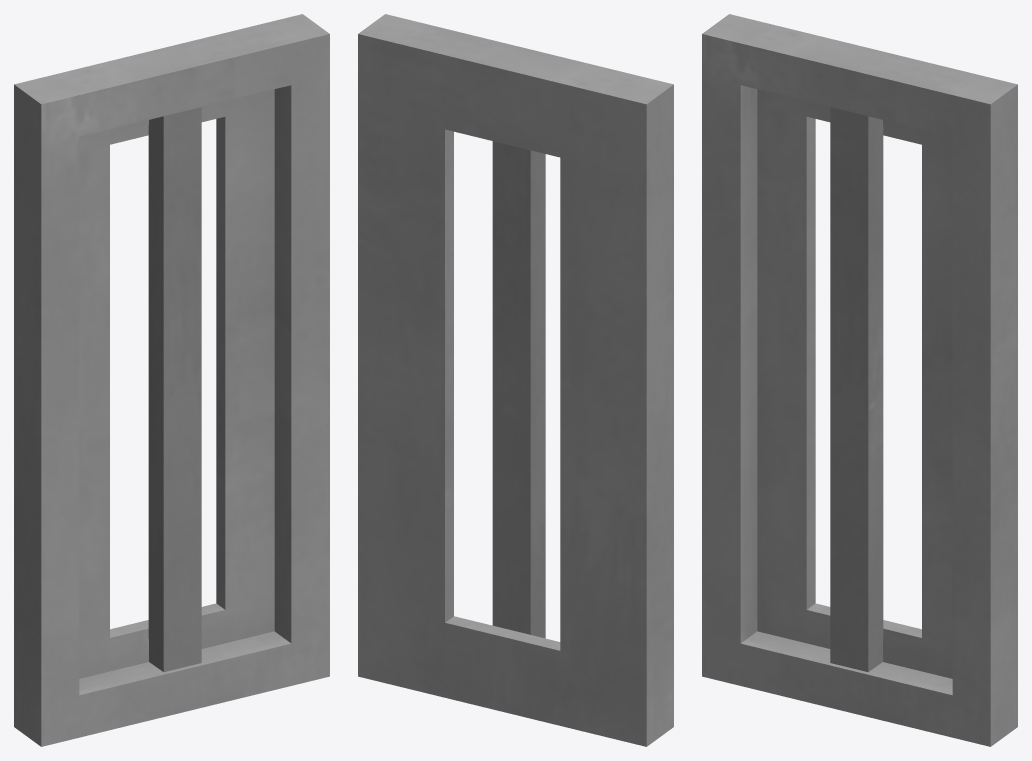
File: Pfb_Prison_Cage5.fbx
The picture shows the model from 3 angles, left to right: view 1: azimuth 30°, elevation 25°; view 2: azimuth 150°, elevation 25°; view 3: azimuth 330°, elevation 25°; orthographic projection.
Parts seen in each view (by area): view 1: Mat_Prison_Cage; view 2: Mat_Prison_Cage; view 3: Mat_Prison_Cage.
Boxes of the visible parts, x1,y1,x2,y2 form: Mat_Prison_Cage: [14, 14, 329, 746]; Mat_Prison_Cage: [358, 14, 673, 746]; Mat_Prison_Cage: [702, 14, 1017, 746].
Size of the model in its own units: 0.9885 by 2.1 by 0.1618.
1 material, 1 textured.
